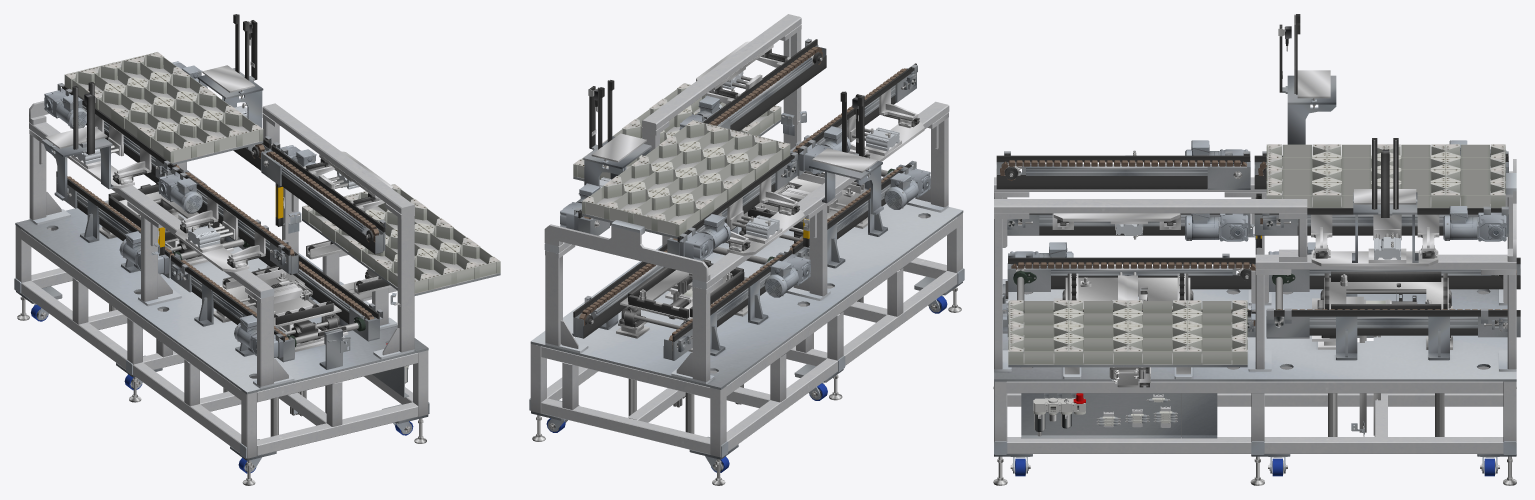
The model's file is CONVEYOR_UNIT.glb.
3 views of the same model, side by side, from view 1: azimuth 30°, elevation 25°; view 2: azimuth 150°, elevation 25°; view 3: azimuth 270°, elevation 25° (orthographic). The views are drawn at different scales.
Parts seen in each view (by area): view 1: CONVEYOR_UNIT; view 2: CONVEYOR_UNIT; view 3: CONVEYOR_UNIT.
Part boxes in pixels (<box>): CONVEYOR_UNIT: <box>14,14,500,485</box>; CONVEYOR_UNIT: <box>529,14,964,485</box>; CONVEYOR_UNIT: <box>993,14,1520,485</box>.
Bounding box in the file's own units: 2.3 × 2.17 × 2.96.
1 material, 1 textured.
